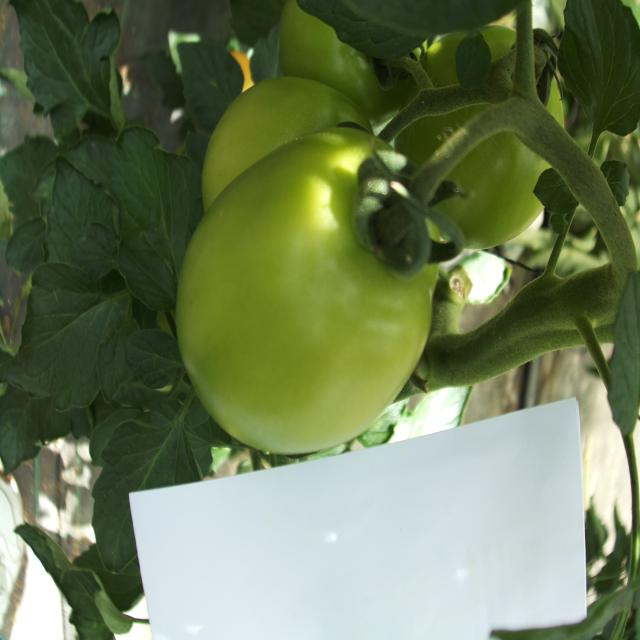yesil: (181, 65, 554, 440)
